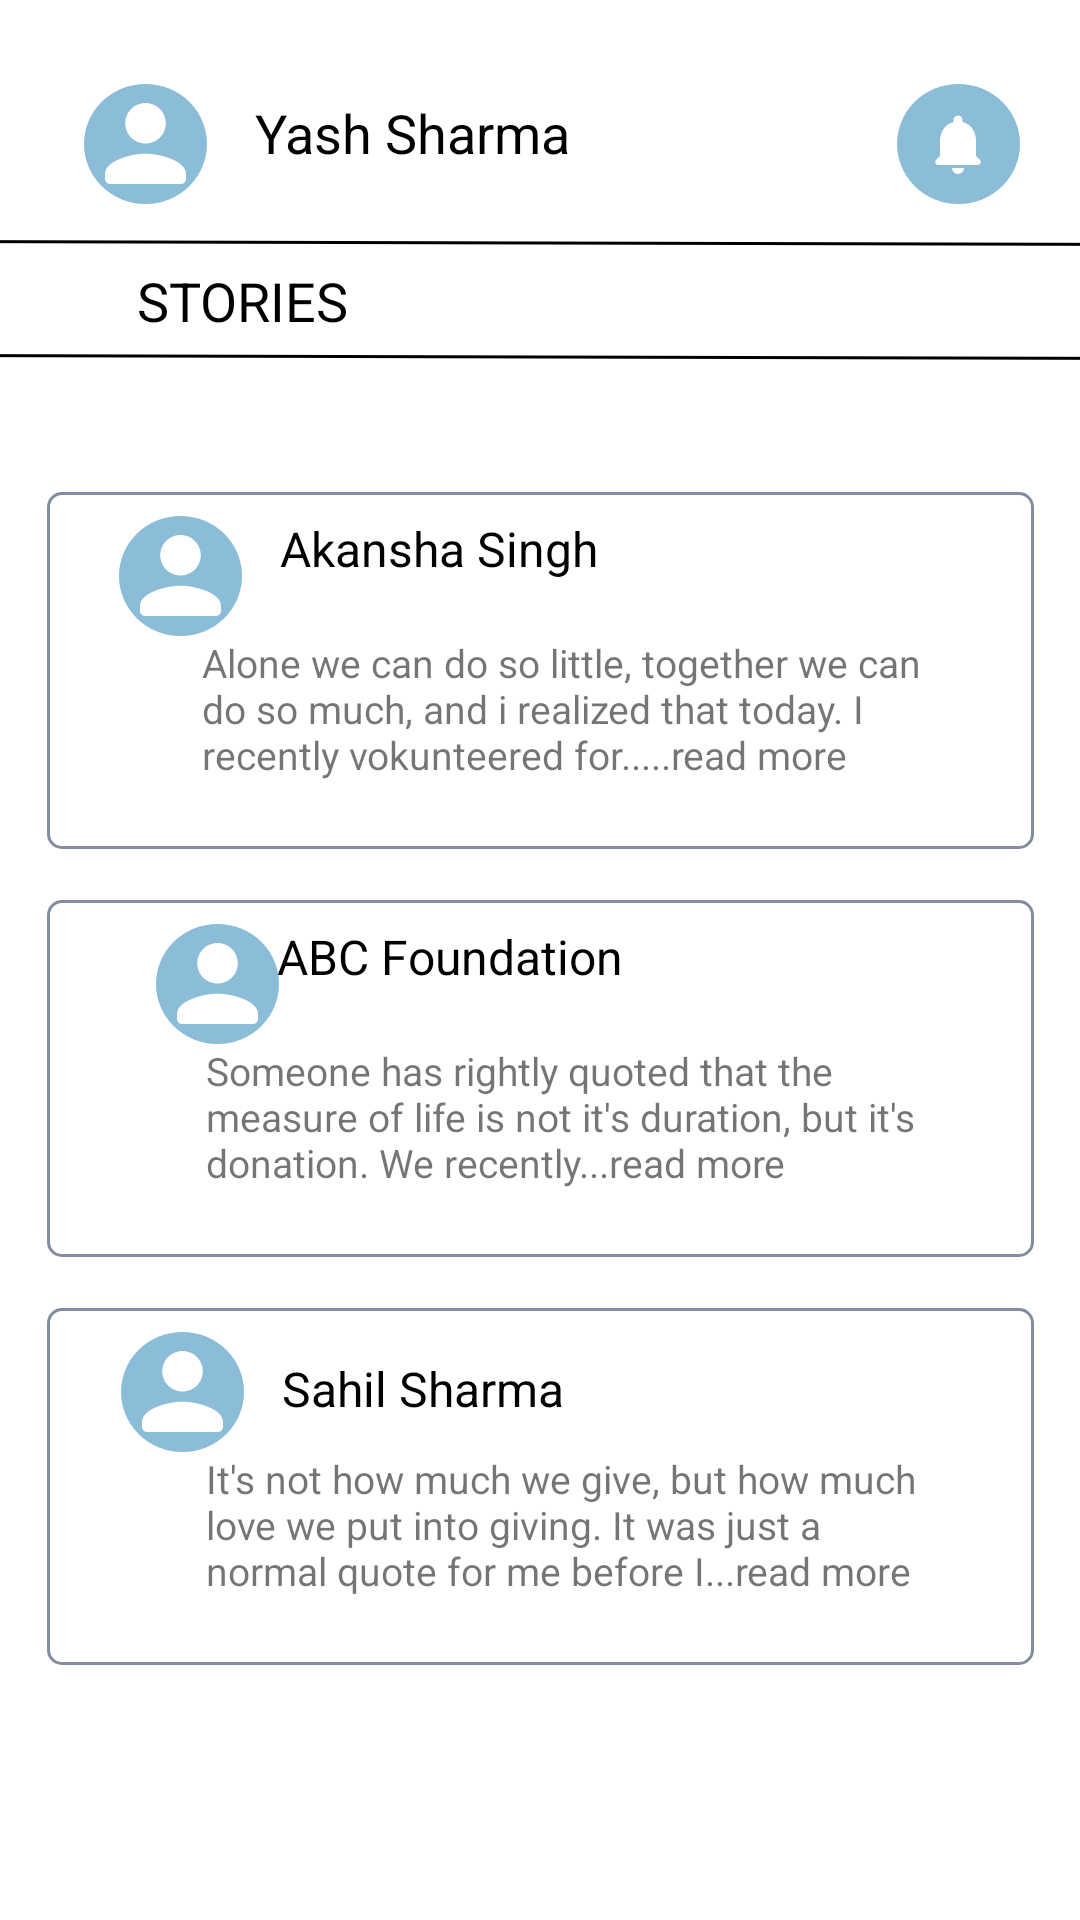

Screen size 1080 x 1920. Icon name, then its box in pixels as bbox=(x1, y1, x2, y2):
notification: bbox=(897, 84, 1020, 204)
